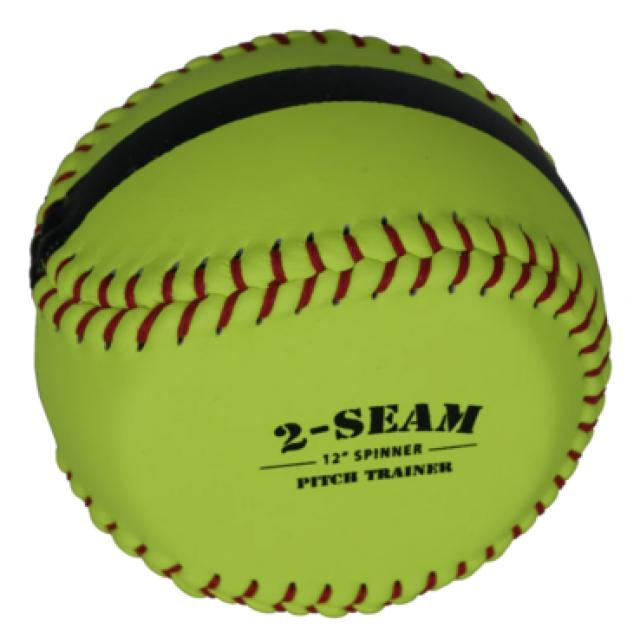softball ball: (30, 29, 612, 618)
